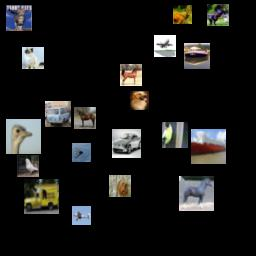airplane: (154, 35, 176, 57), (72, 206, 91, 225), (72, 143, 91, 162)
automobile: (112, 129, 141, 158), (45, 101, 71, 127)
bird: (6, 119, 41, 154), (162, 122, 188, 148), (17, 155, 39, 177)
cat: (6, 5, 32, 31), (22, 47, 44, 69)
deer: (173, 5, 192, 24)
dog: (130, 91, 149, 110)
frog: (109, 175, 131, 197)
ship: (191, 129, 226, 164), (184, 43, 210, 69)
truck: (24, 179, 59, 214)
